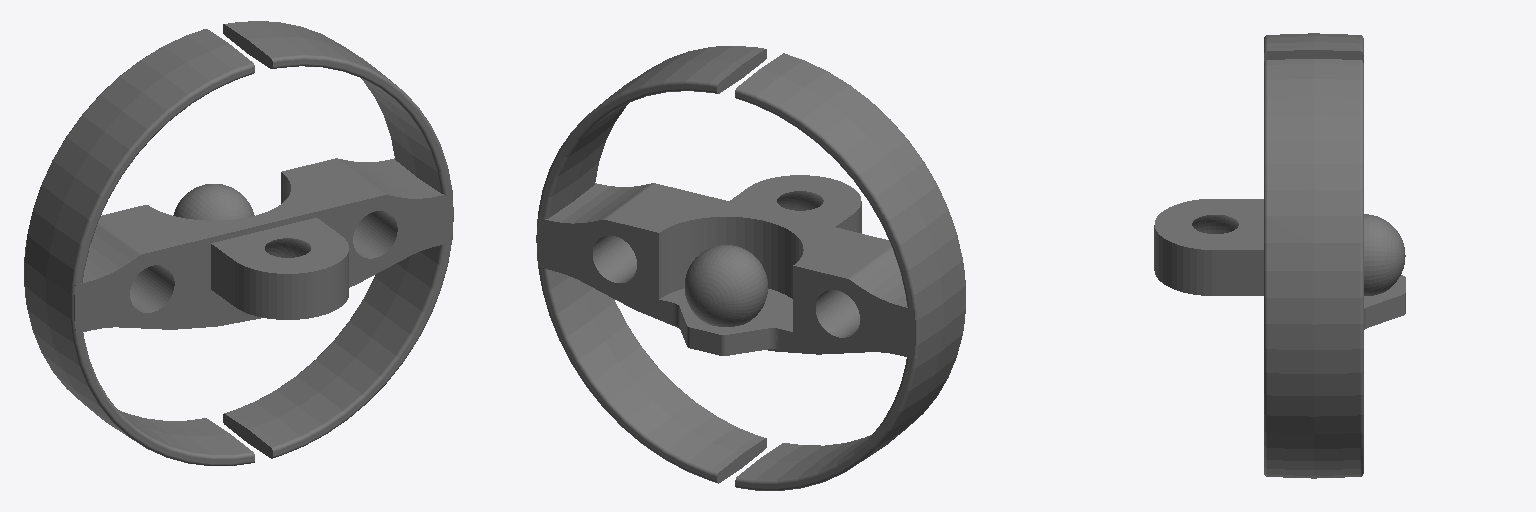
Rendered from chain_link_TRL_30_050_0.obj.
3 renders of one model, left to right at view 1: azimuth 30°, elevation 25°; view 2: azimuth 150°, elevation 25°; view 3: azimuth 270°, elevation 25°, orthographic.
Size of the model in its own units: 0.0346 by 0.0346 by 0.0195.